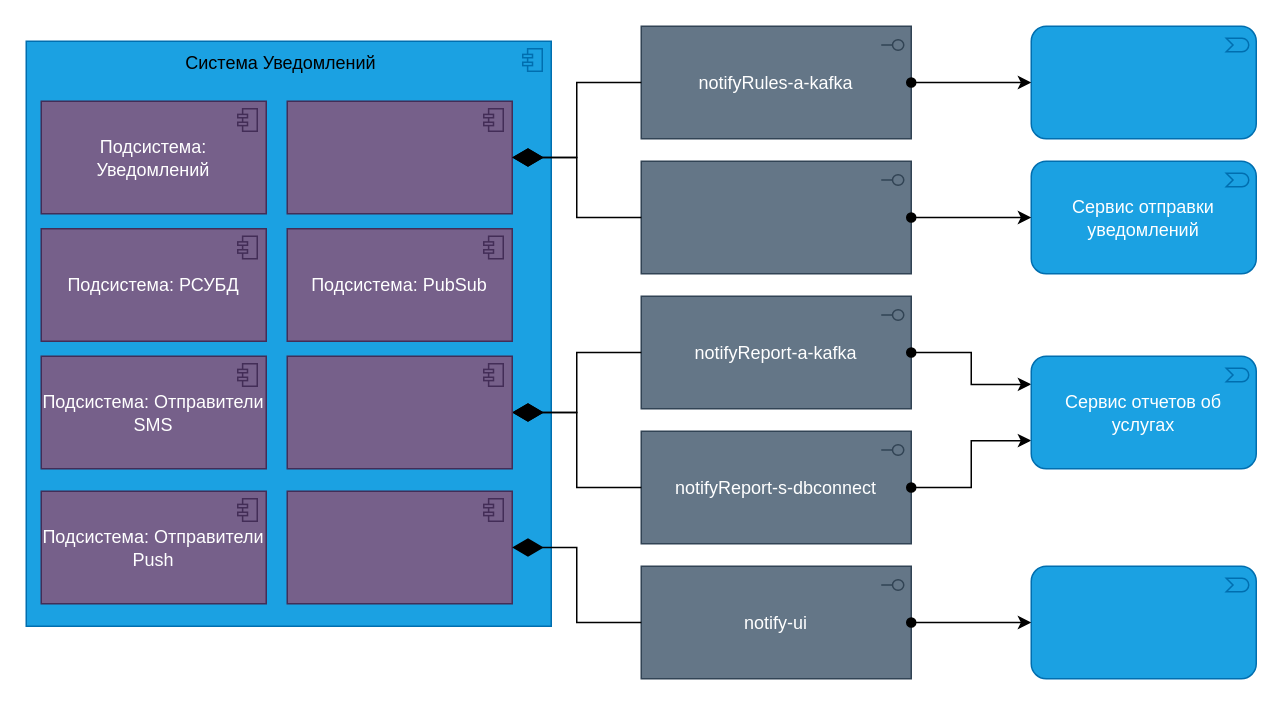
Some shapes in this 1283 by 705 pixel diagram are drawn without their labels. Each missing label, with the centre of its shape:
"notifySend-a-artemismq" goes at point (775, 217).
"Подсистема: ETL" goes at point (399, 157).
"Подсистема: UI управления операторами" goes at point (399, 547).
"Подсистема: гарантированной отправки" goes at point (399, 412).
"Сервис регистрации подписок" goes at point (1143, 82).
"Сервис управления операторами доставки" goes at point (1143, 622).
